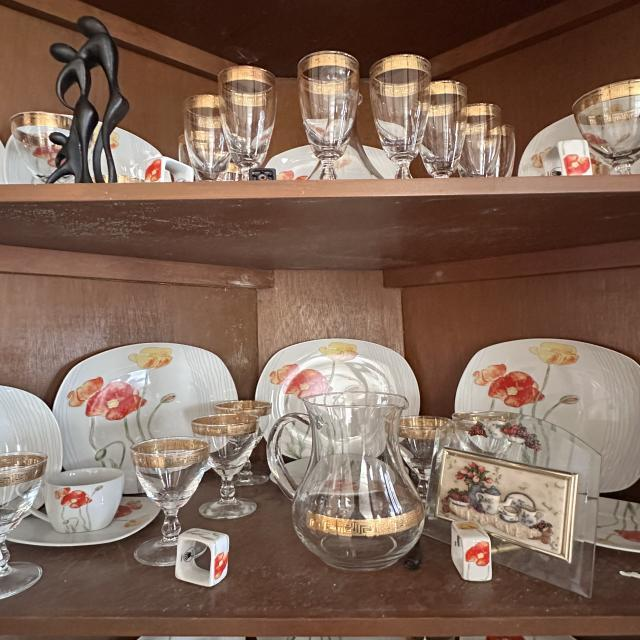hidden camera: (403, 559, 418, 570), (258, 174, 268, 180)
